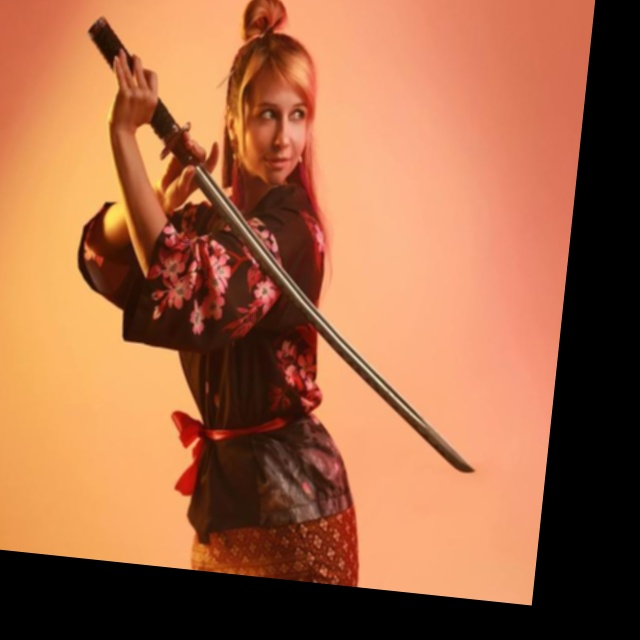Sharp-Object: (50, 15, 513, 473)
